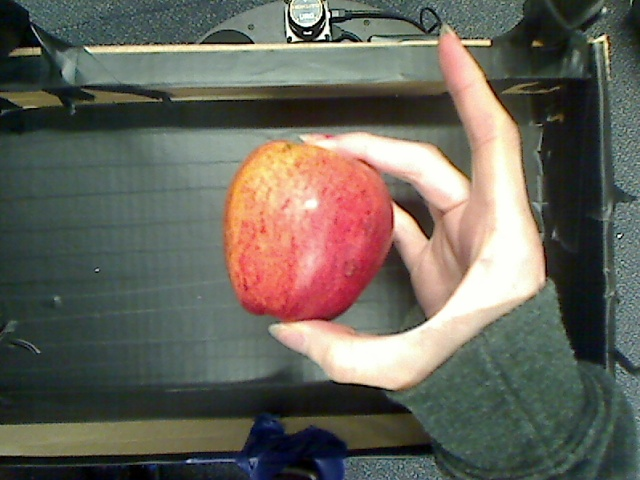apple: (210, 135, 400, 330)
